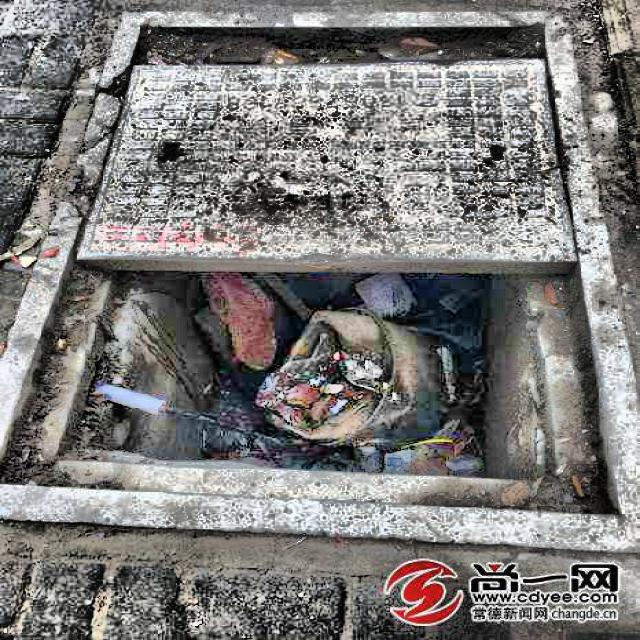Open Manhole: (0, 13, 597, 523)
